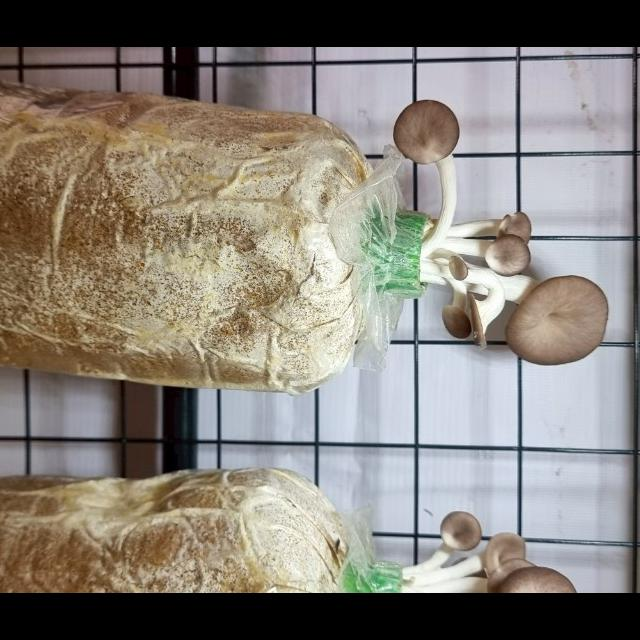normal: (403, 249, 610, 376), (380, 91, 471, 257), (411, 207, 545, 276)
